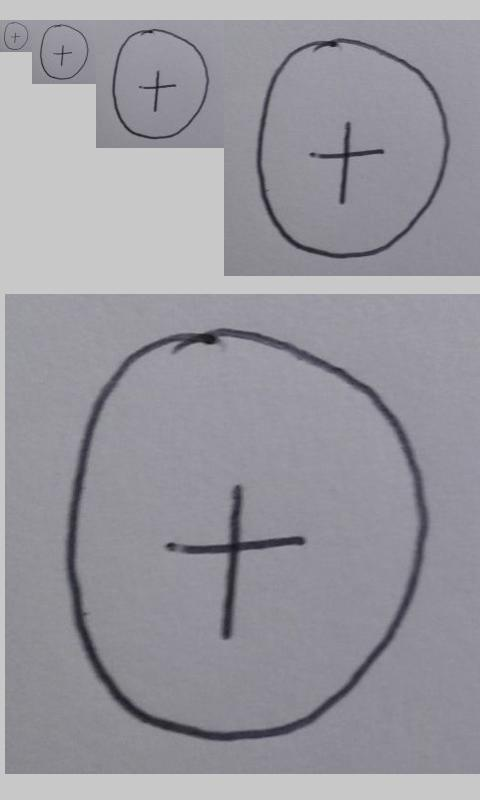button: (67, 328, 431, 745), (255, 38, 450, 258), (112, 29, 210, 139), (39, 24, 89, 80), (4, 22, 28, 50)
